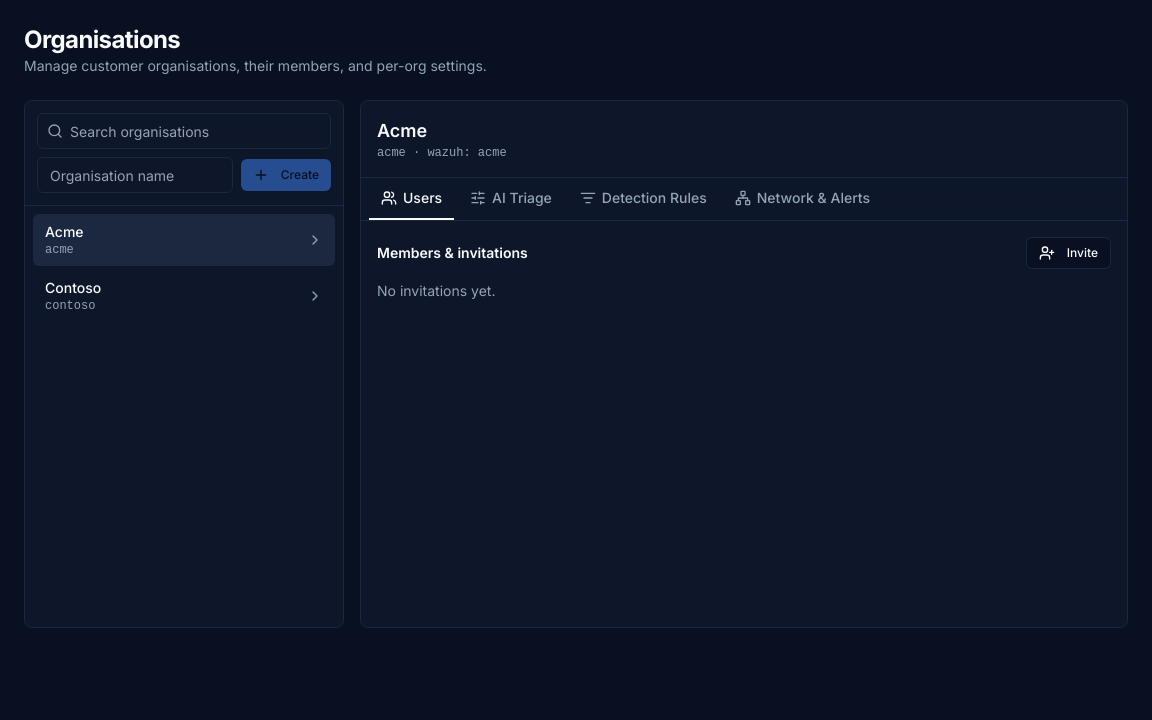
Test: OrgManagement › Users tab — invite dialog › closes dialog when Cancel is clicked
Expected: the heading "Acme" is shown, [377,117,427,145]
Step 1. Click the button with aria-label "invite user to acme" → coordinates (1068, 253), box [1026,237,1111,269]
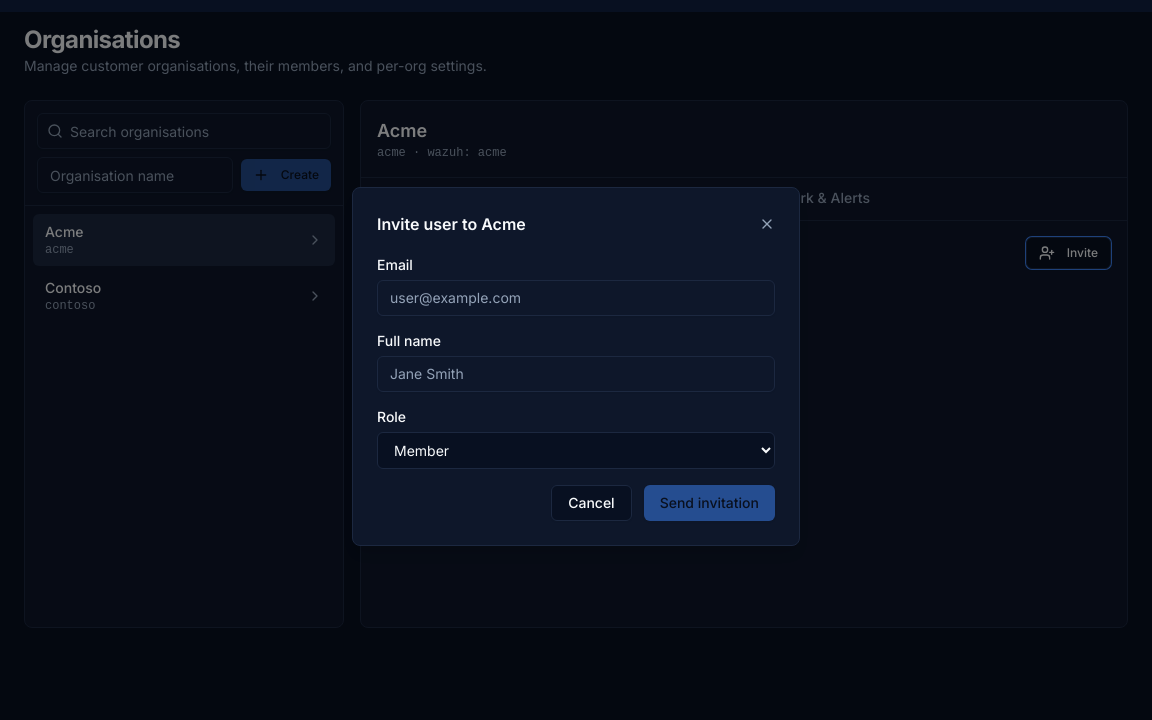
Step 2. Click the button "Cancel" → coordinates (591, 502), box [551,484,632,520]
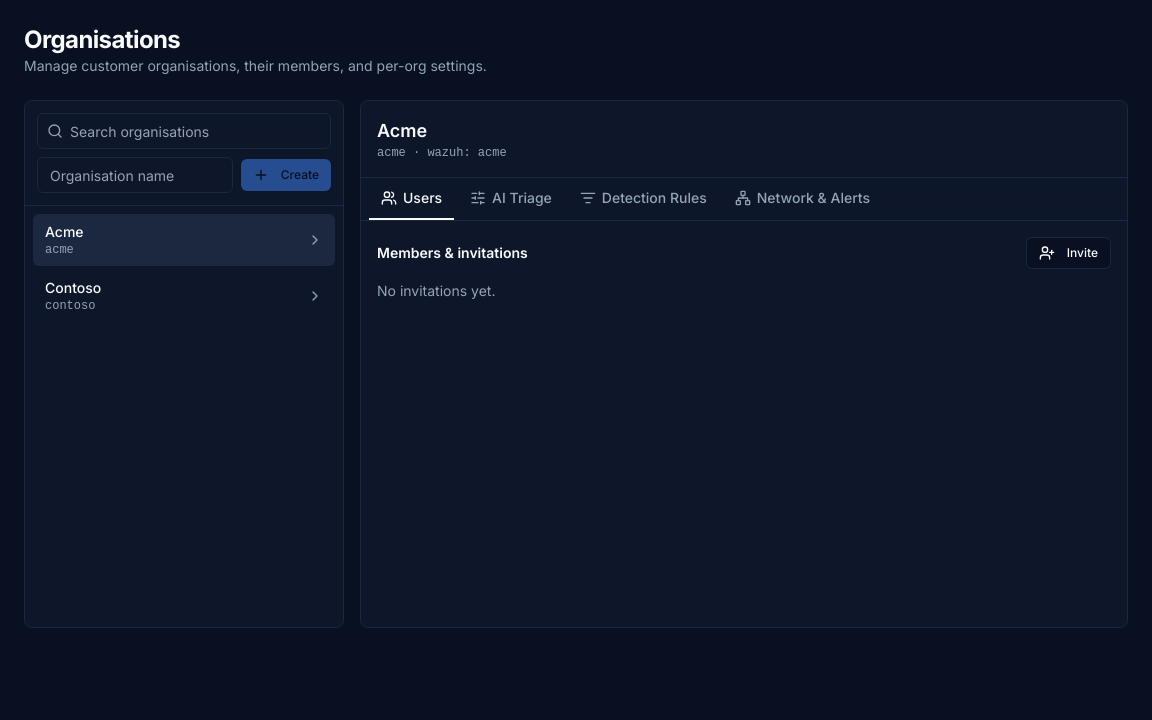
Result: the heading "Invite user to Acme" is gone
